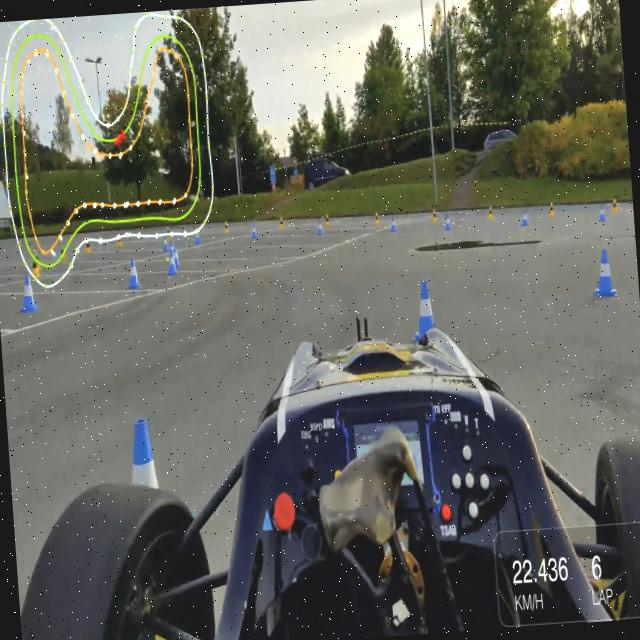blue_cone: (108, 412, 178, 584), (405, 276, 444, 344), (588, 246, 620, 302), (16, 272, 40, 317), (124, 253, 140, 290), (166, 250, 177, 276), (596, 200, 608, 223), (169, 246, 181, 268), (520, 208, 530, 228), (443, 212, 452, 232), (388, 216, 398, 233), (249, 222, 258, 240), (314, 220, 324, 236), (161, 235, 169, 252), (194, 230, 202, 246), (169, 240, 176, 258)
yellow_cone: (28, 254, 42, 280), (33, 250, 43, 272), (610, 196, 620, 215), (58, 244, 68, 262), (115, 232, 124, 250), (547, 200, 556, 217), (430, 207, 438, 226), (486, 204, 494, 222), (277, 213, 285, 230), (83, 238, 92, 253), (222, 219, 230, 235), (324, 212, 332, 228), (372, 210, 380, 226), (164, 226, 171, 240)
